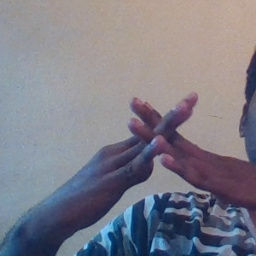W: (105, 80, 221, 211)
